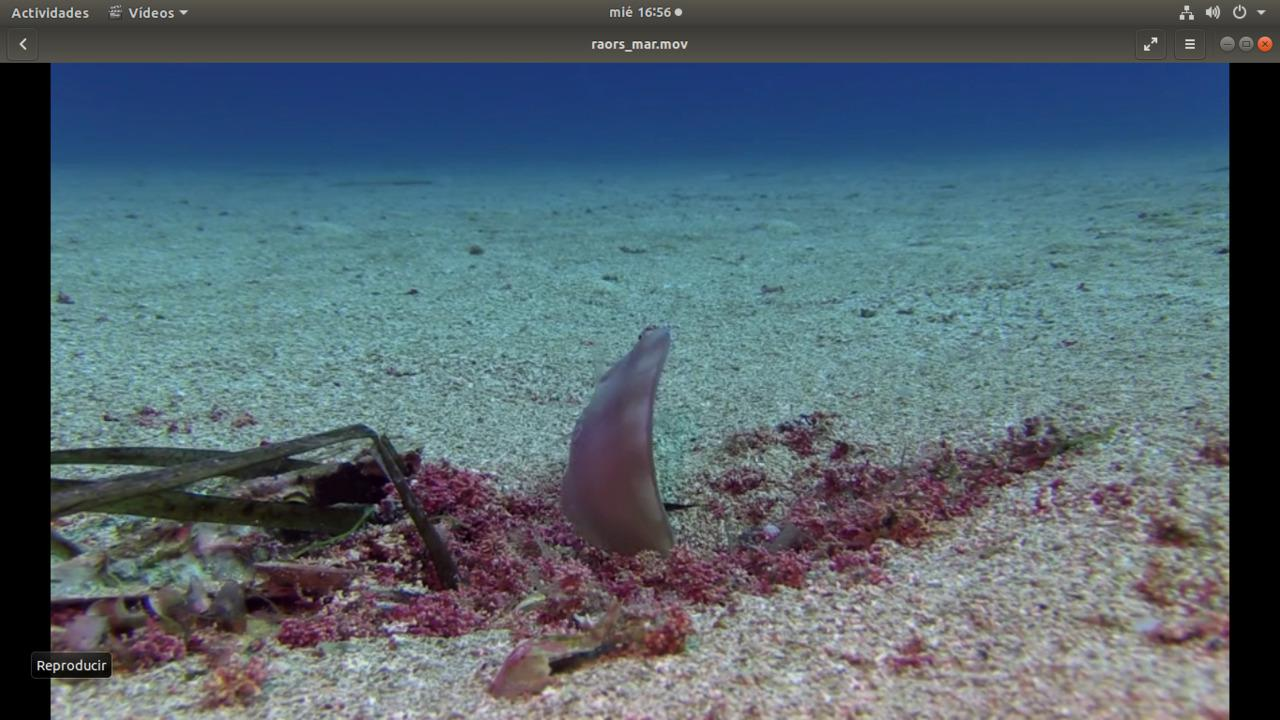raor: (556, 315, 690, 560)
